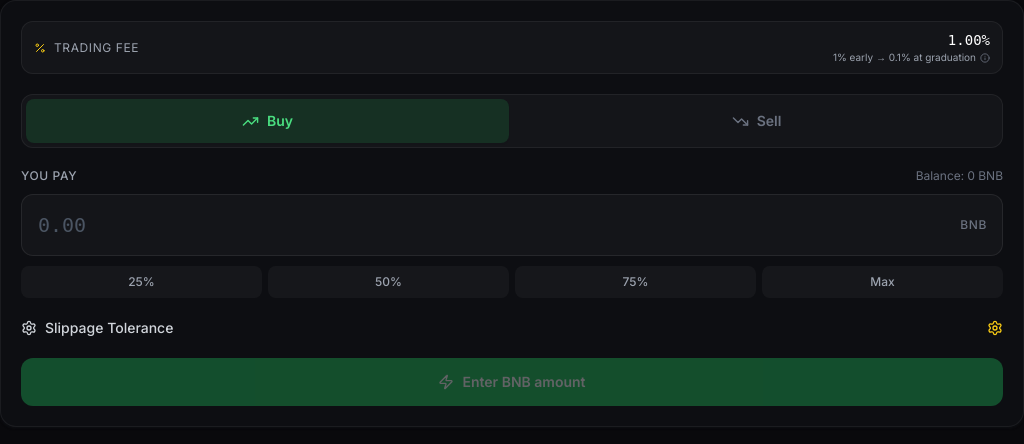
Test: TradingInterface › Trade Type Switching › should switch from buy to sell mode
Click the button "Sell" at (756, 121), box left=515, top=99, right=998, bottom=143
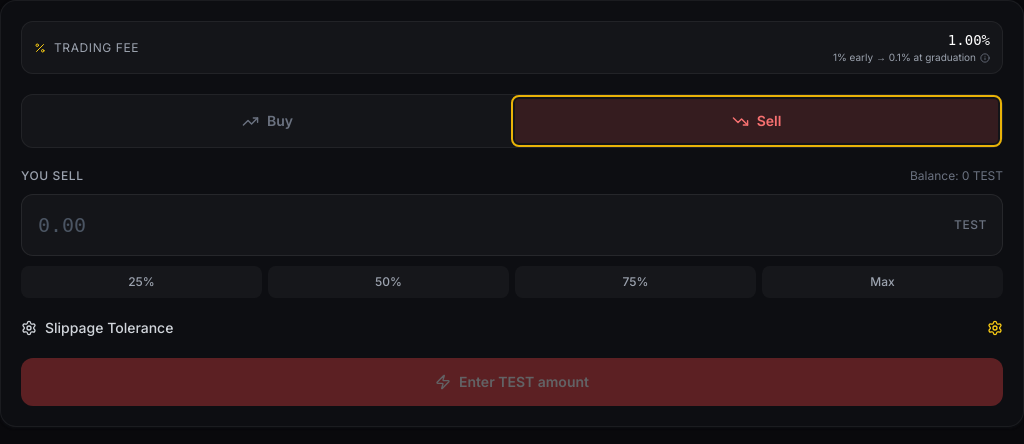
Expected: the text "You sell" is shown, left=21, top=168, right=84, bottom=184
